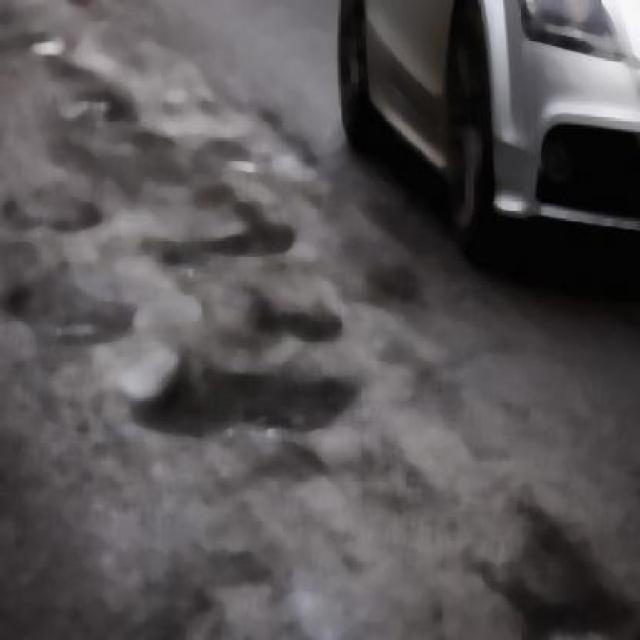Pothole: (176, 366, 347, 462), (150, 221, 313, 287), (24, 259, 118, 361), (524, 594, 639, 638), (60, 68, 123, 140)
